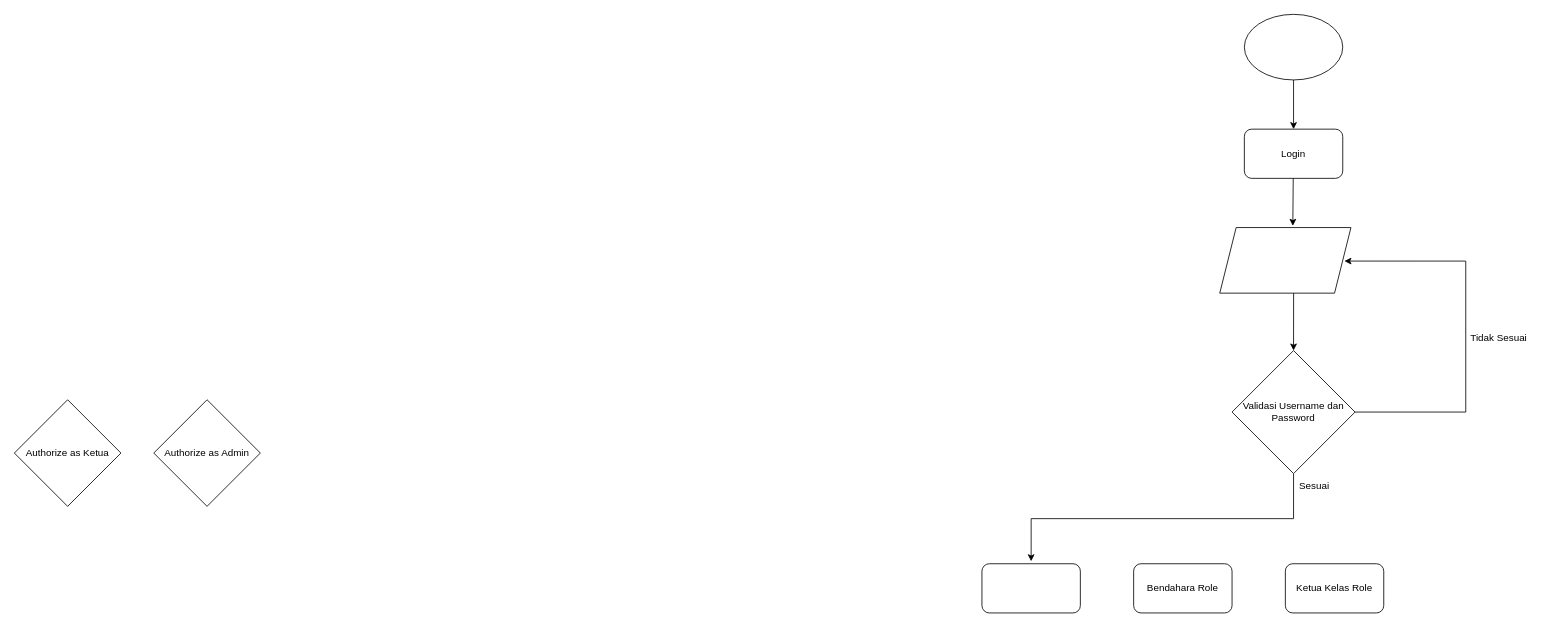
Some shapes in this 1550 by 627 pixel diagram are drawn without their labels. The shapes that lost their labels are listed below. From the top down, each one's centre as x and y in pixels, then its label:
At point (1293, 47): "Start".
At point (1285, 260): "Input Username and password".
At point (1030, 588): "User role".
